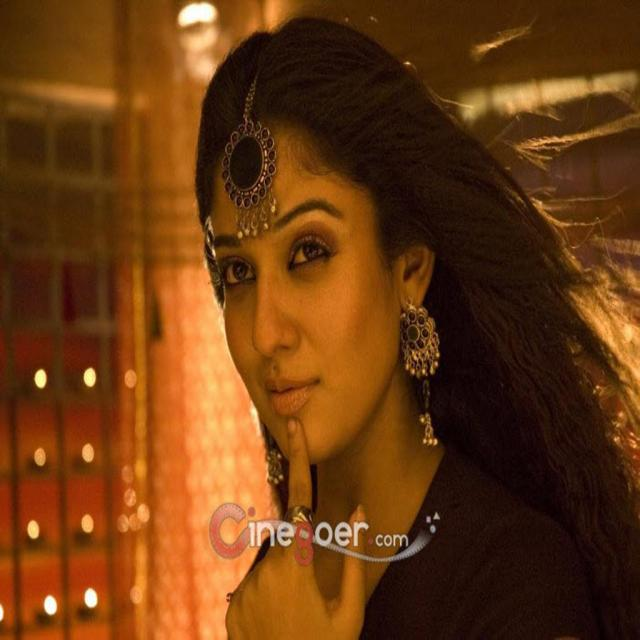nomask: (211, 126, 395, 455)
